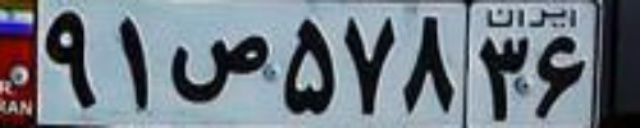1: (115, 14, 150, 110)
3: (476, 33, 531, 121)
5: (283, 17, 335, 114)
6: (537, 35, 586, 120)
7: (342, 15, 393, 117)
8: (401, 14, 455, 114)
9: (44, 10, 96, 110)
saat: (166, 31, 267, 103)
